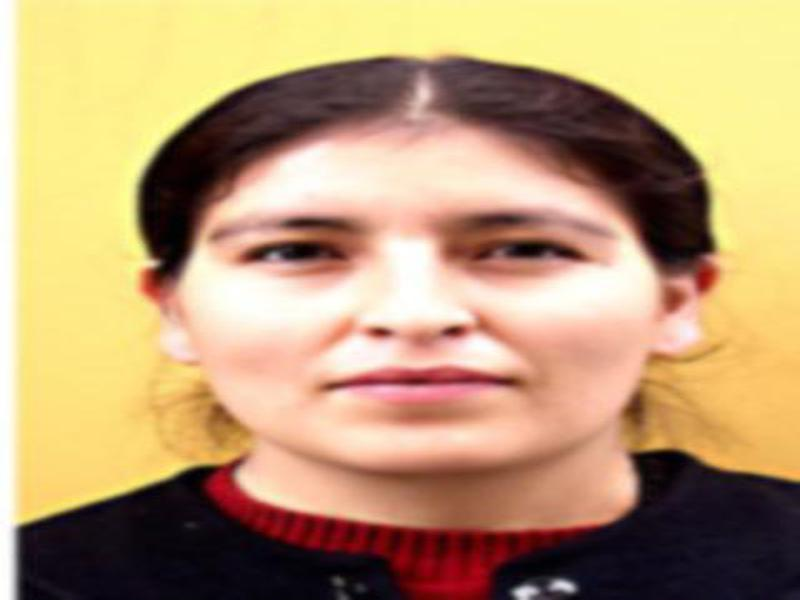without_mask: (208, 151, 648, 474)
